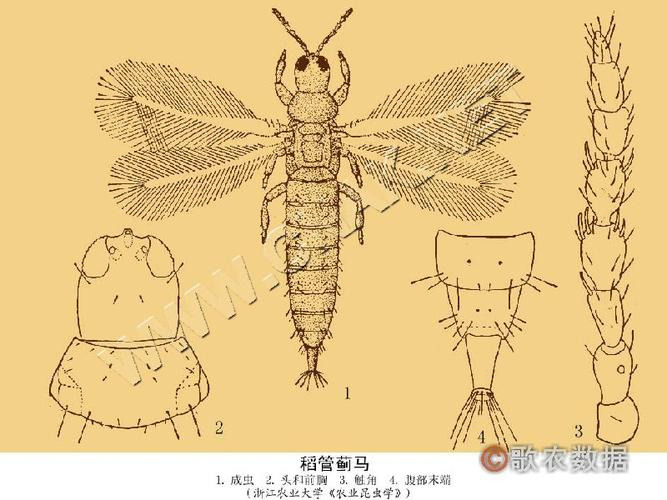Phlaeothripidae: (94, 6, 537, 393)
